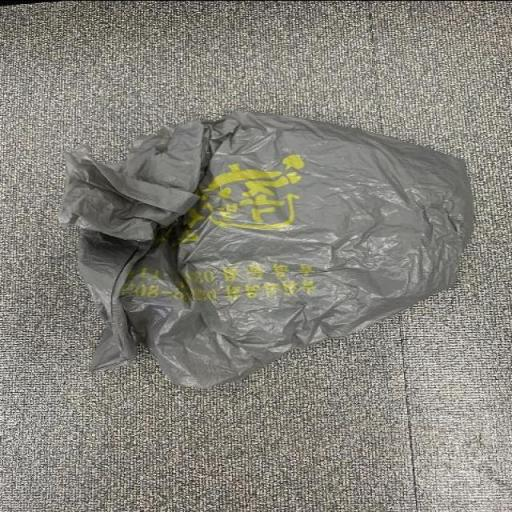plastic-bag: (49, 106, 473, 391)
